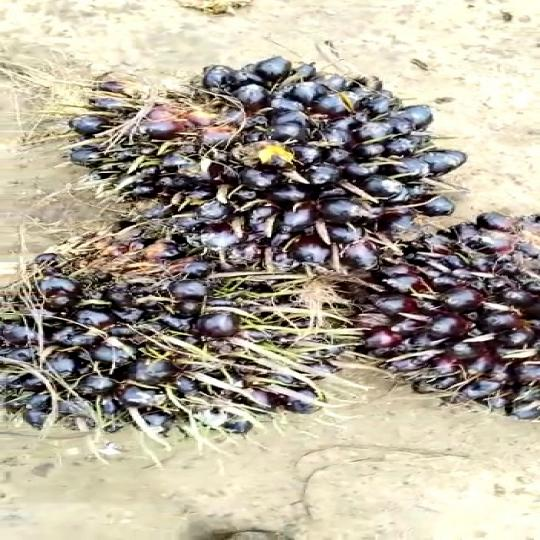mentah: (47, 53, 483, 275), (0, 237, 359, 461), (318, 208, 538, 431)
